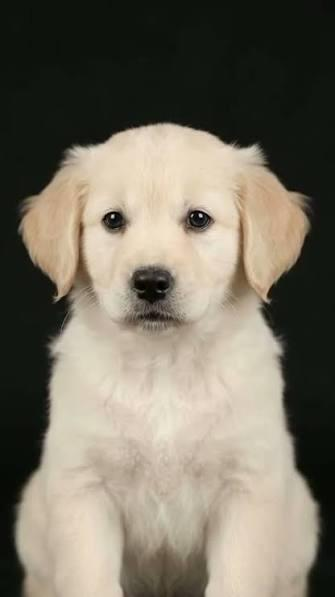puppy-dog: (7, 120, 323, 597)
